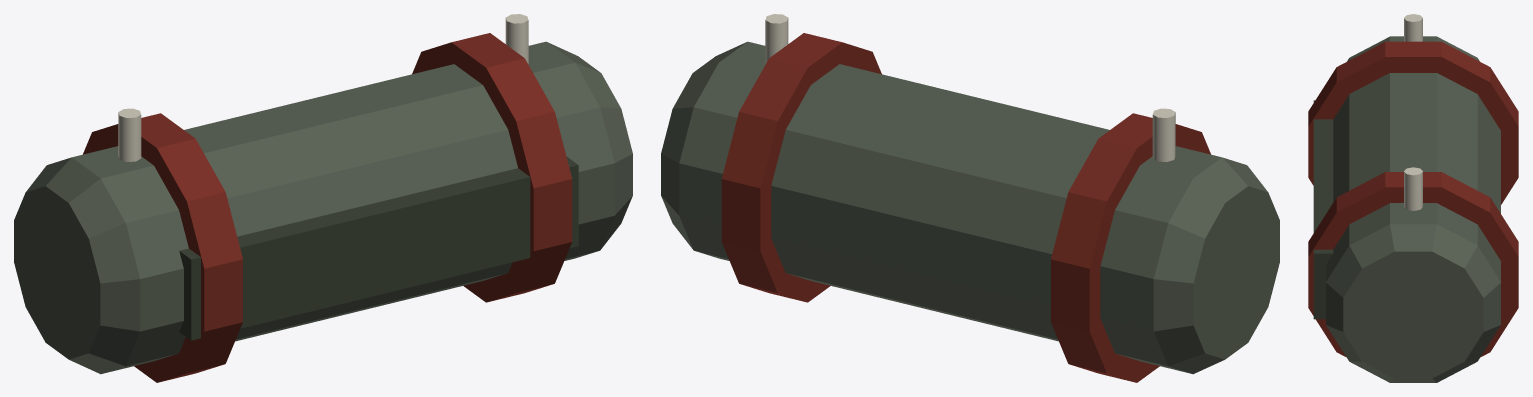
The model's file is s150_starter.obj.
3 views of the same model, side by side, from view 1: azimuth 30°, elevation 25°; view 2: azimuth 150°, elevation 25°; view 3: azimuth 270°, elevation 25° (orthographic). The views are drawn at different scales.
Parts seen in each view (by area): view 1: s150_starter; view 2: s150_starter; view 3: s150_starter.
Part boxes in pixels (left/top/right/bottom): s150_starter: left=14, top=14, right=632, bottom=382; s150_starter: left=661, top=14, right=1279, bottom=382; s150_starter: left=1308, top=14, right=1518, bottom=382.
Bounding box in the file's own units: 1.04 × 0.4852 × 0.4395.
